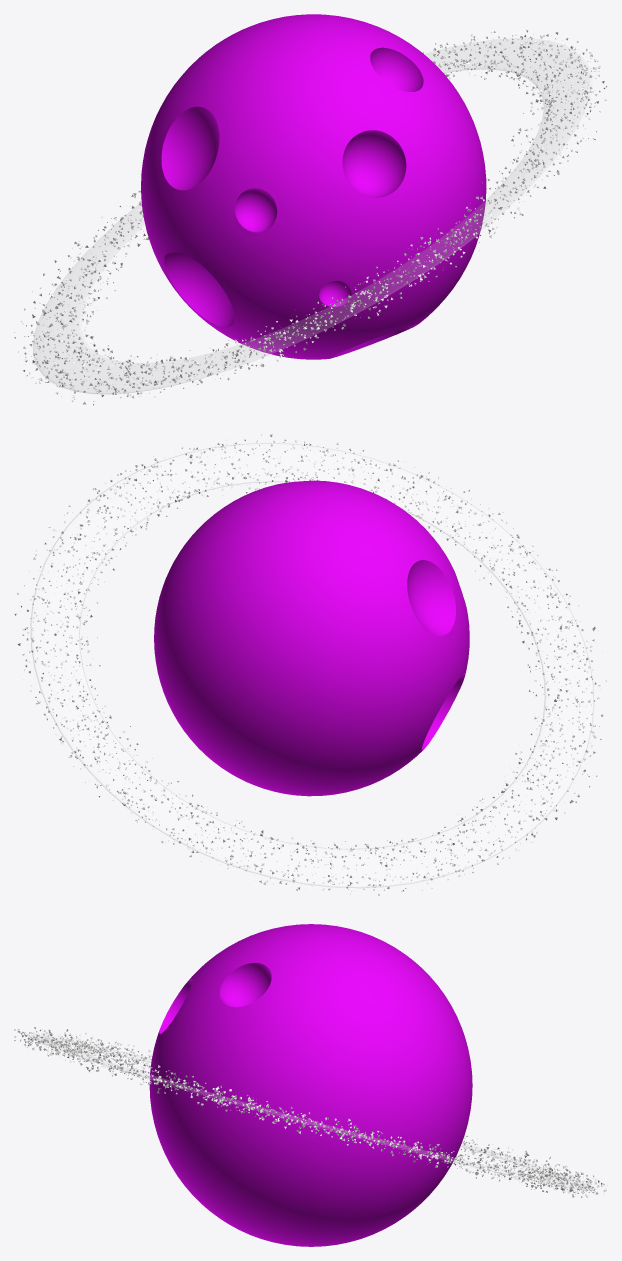
The model's file is planet.glb.
3 renders of one model, top to bottom at view 1: azimuth 30°, elevation 25°; view 2: azimuth 150°, elevation 25°; view 3: azimuth 270°, elevation 25°, orthographic. The views are drawn at different scales.
Visible parts, largest first — view 1: Polyhedron & Polyhedron 1 & Polyhedron 2 & Polyhedron 3 & Po, Ring, Particles Baked; view 2: Polyhedron & Polyhedron 1 & Polyhedron 2 & Polyhedron 3 & Po, Ring, Particles Baked; view 3: Polyhedron & Polyhedron 1 & Polyhedron 2 & Polyhedron 3 & Po, Particles Baked, Ring.
Part boxes in pixels (box(x1,y1,x2,y2)): Polyhedron & Polyhedron 1 & Polyhedron 2 & Polyhedron 3 & Po: box(141, 14, 486, 359); Ring: box(33, 38, 592, 394); Particles Baked: box(14, 30, 607, 405); Polyhedron & Polyhedron 1 & Polyhedron 2 & Polyhedron 3 & Po: box(154, 480, 469, 796); Ring: box(30, 443, 593, 887); Particles Baked: box(14, 434, 607, 895); Polyhedron & Polyhedron 1 & Polyhedron 2 & Polyhedron 3 & Po: box(149, 924, 472, 1246); Particles Baked: box(14, 1027, 607, 1197); Ring: box(29, 1035, 594, 1190).
Bounding box in the file's own units: 0.1788 × 0.1017 × 0.1839.
